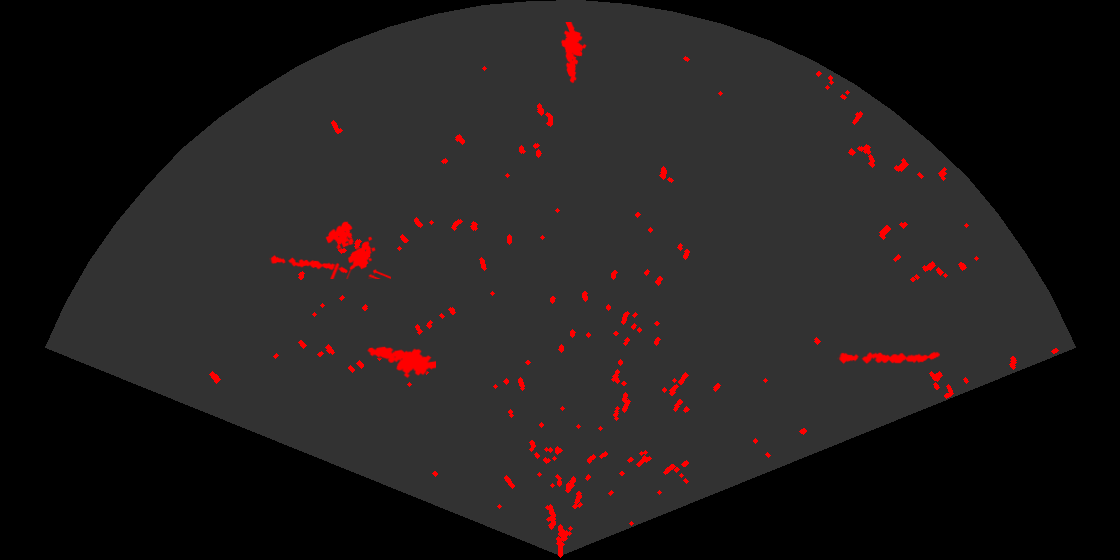cage: (324, 220, 391, 279)
chain: (269, 253, 350, 275), (837, 350, 940, 366)
frogman: (366, 345, 436, 380), (559, 22, 588, 85)
